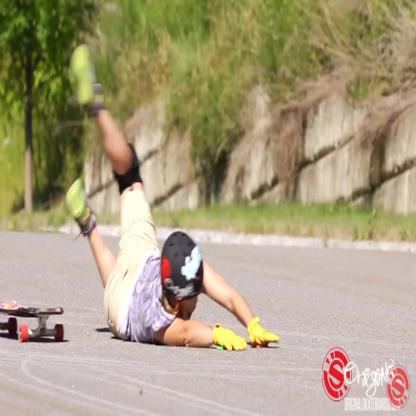Fall_Down: (62, 41, 281, 356)
